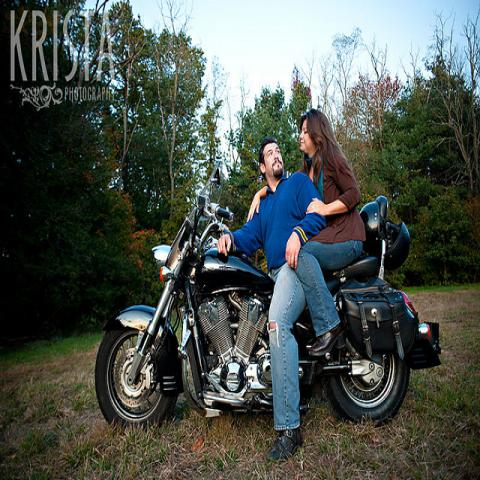motorcycle: (92, 152, 272, 428), (296, 242, 441, 428)
